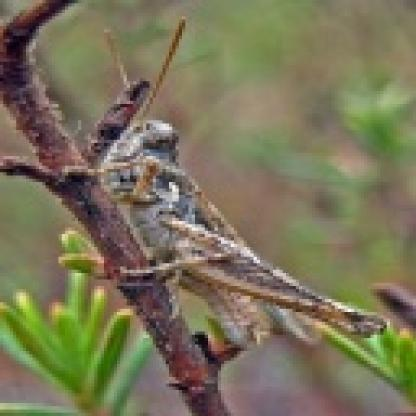grasshopper: (57, 22, 416, 384)
